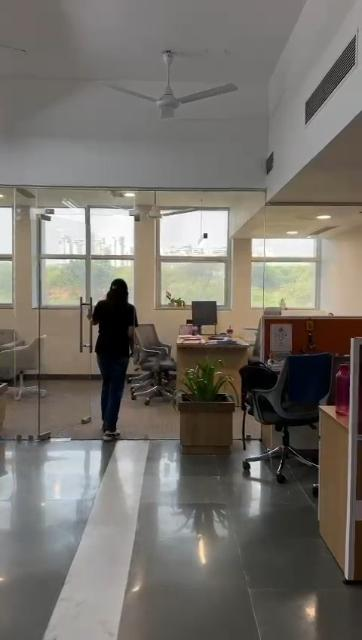floor: (0, 490, 316, 640), (10, 437, 96, 493), (140, 412, 184, 496), (50, 375, 98, 441)
moving-obj: (100, 252, 136, 476)
object: (262, 361, 334, 477), (179, 364, 247, 462), (129, 327, 181, 409), (0, 324, 40, 404), (186, 290, 230, 340)
wall: (227, 195, 257, 332), (319, 224, 362, 301), (132, 221, 160, 327), (47, 308, 87, 372), (16, 222, 34, 330)
